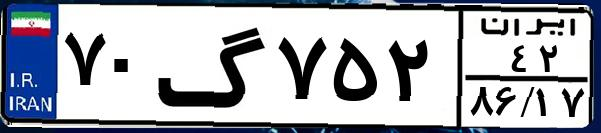0: (110, 28, 156, 98)
1: (535, 70, 560, 125)
2: (385, 28, 445, 110), (537, 27, 568, 80)
4: (508, 27, 537, 80)
5: (330, 28, 385, 110)
6: (495, 70, 520, 125)
7: (270, 28, 330, 110), (57, 26, 110, 100), (560, 70, 590, 125)
8: (470, 70, 495, 125)
گ: (156, 12, 270, 120)
